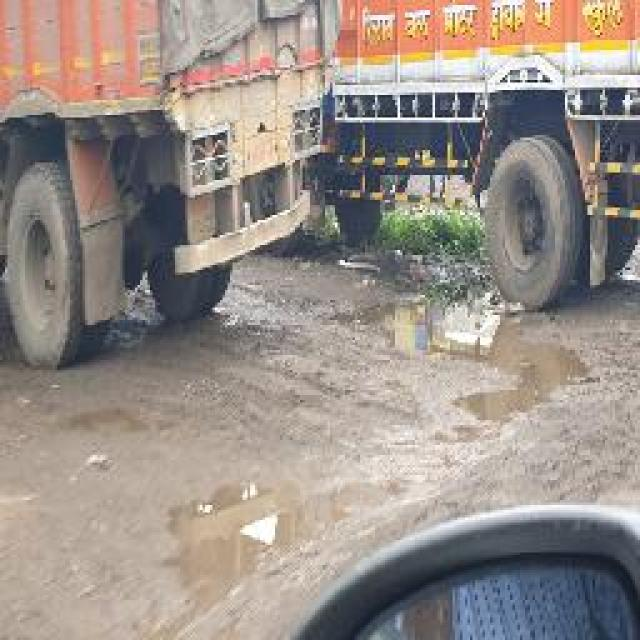waterlogging: (434, 290, 594, 436), (154, 468, 316, 607)
